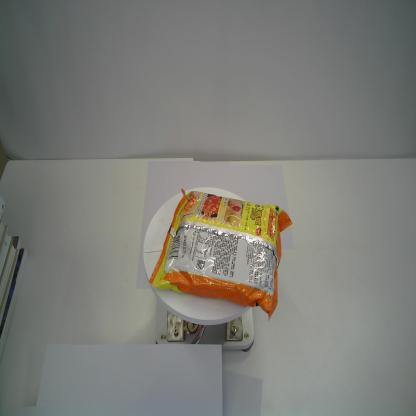Instant Noodles: (147, 187, 293, 322)
